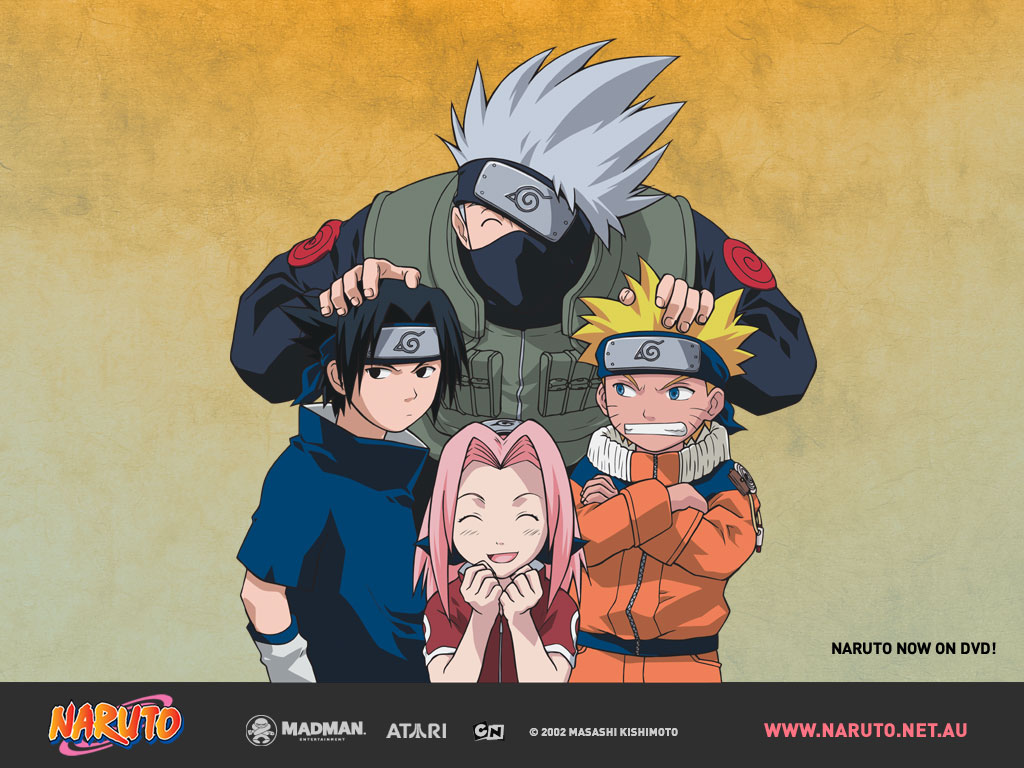kakashi: (446, 149, 592, 322)
naruto: (588, 329, 733, 452)
sakura: (440, 416, 567, 577)
sasuke: (319, 307, 444, 437)
